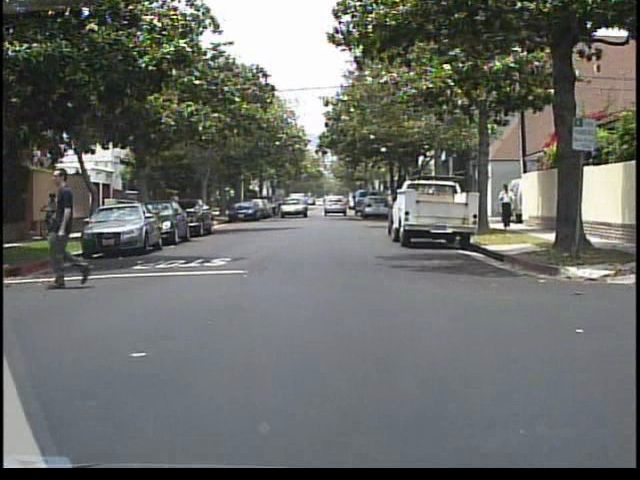person: (36, 166, 105, 291), (494, 175, 520, 232), (42, 190, 67, 240), (166, 188, 184, 228)
